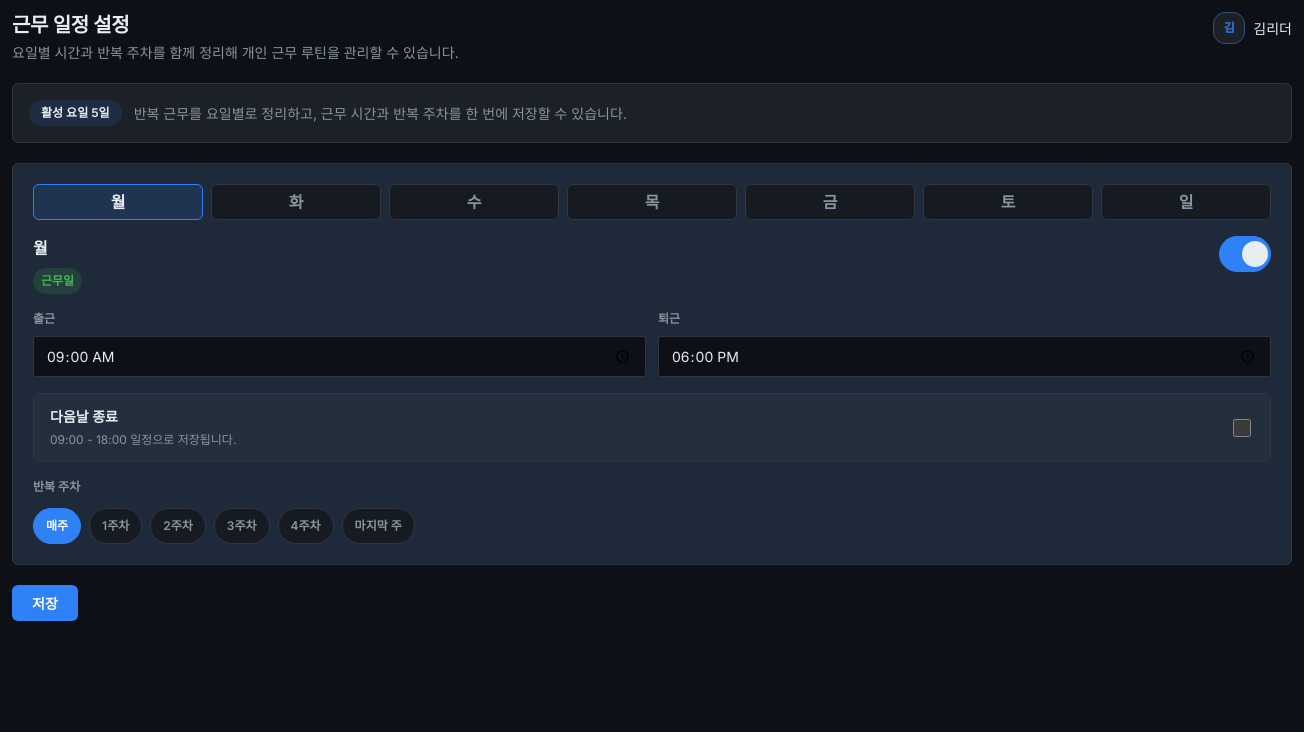
Test case: SetWorkDaysPersonal › 요일 토글 클릭 시 해당 요일 시간 입력이 나타난다
Expected: the text "출근" is shown, [33, 311, 55, 326]
Click the tab "토".
click(1008, 202)  # box [923, 184, 1093, 220]
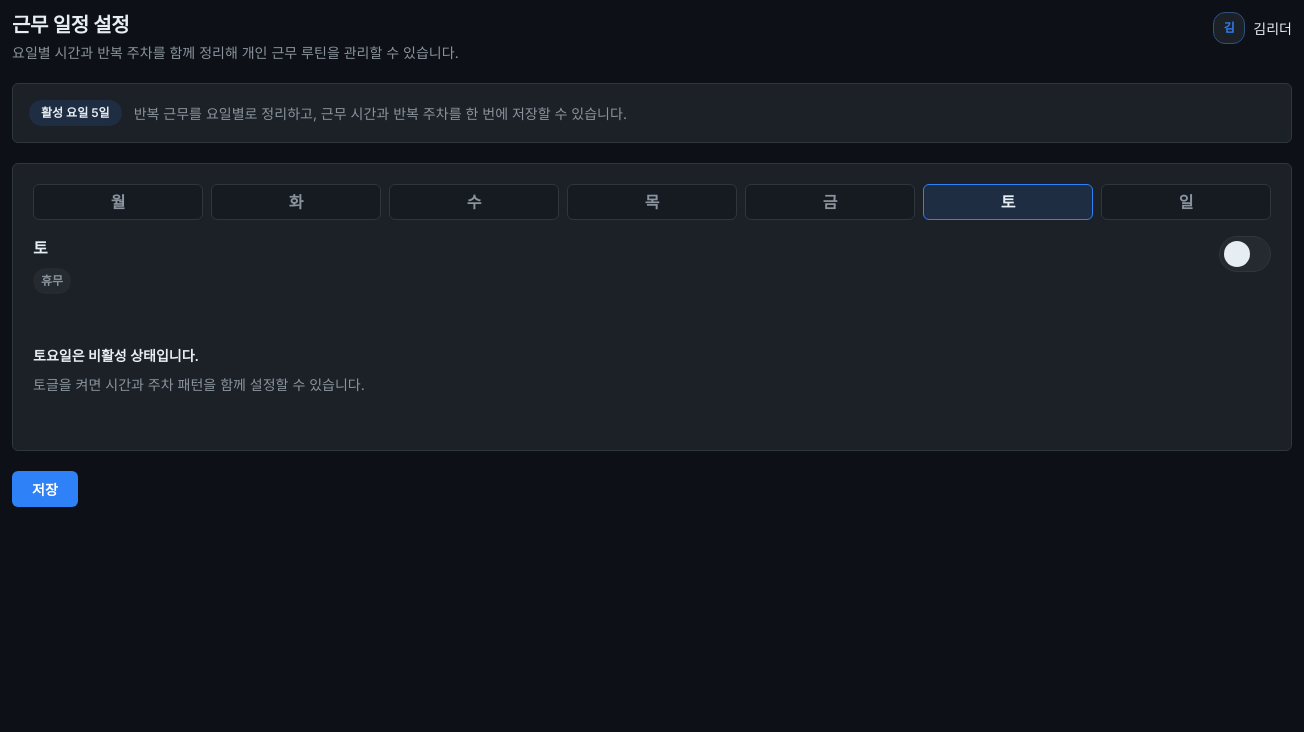
Click the button named "토 토글".
click(1245, 254)  # box [1219, 236, 1271, 272]
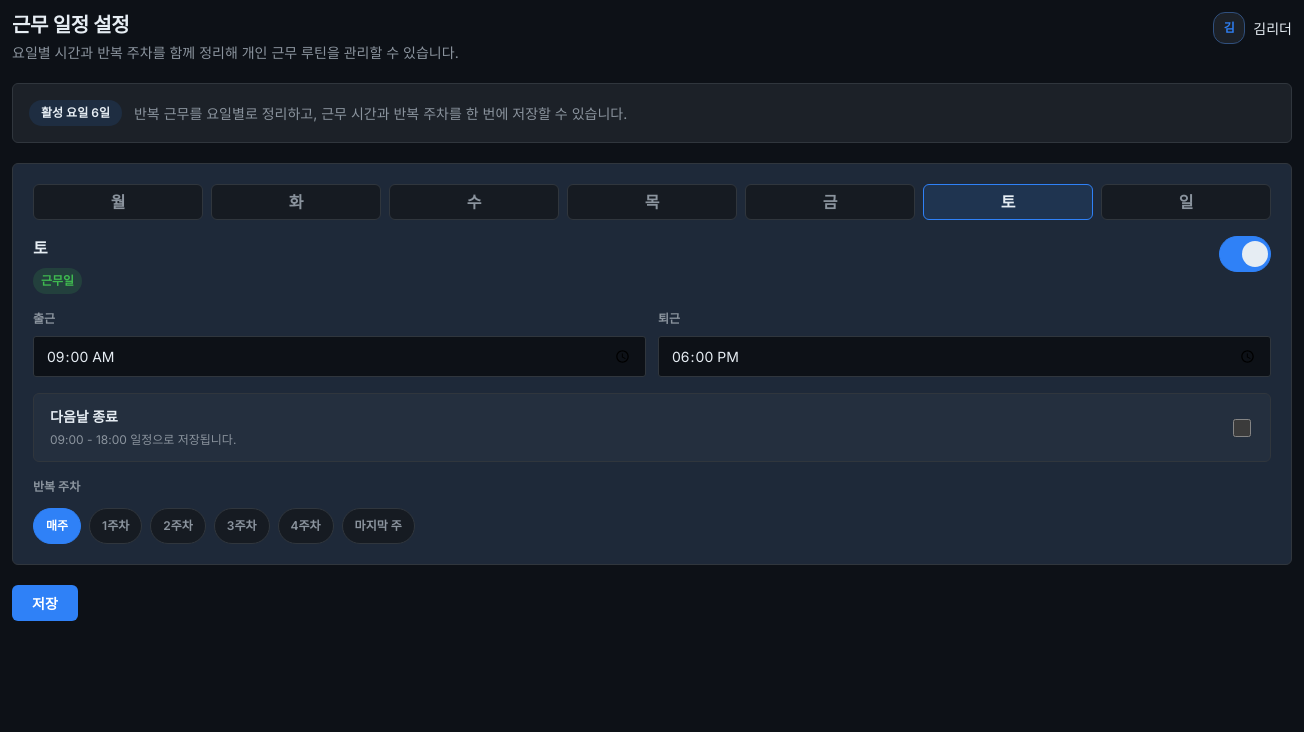
Now the text "출근" is shown, box [33, 311, 55, 326]
Now the text "퇴근" is shown, box [658, 311, 680, 326]
